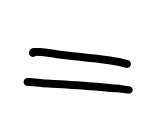eqv: (25, 48, 133, 94)
